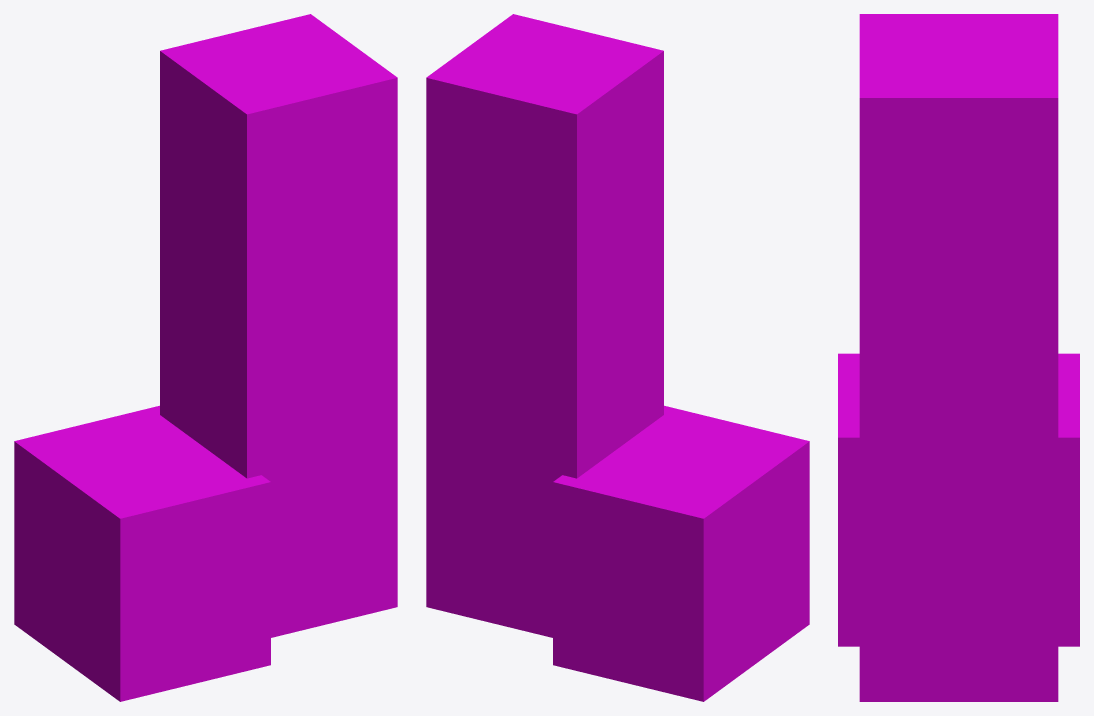
Rendered from SM_OverheadLightSinglePart03Collider.fbx.
The picture shows the model from 3 angles, left to right: view 1: azimuth 30°, elevation 25°; view 2: azimuth 150°, elevation 25°; view 3: azimuth 270°, elevation 25°; orthographic projection. The views are drawn at different scales.
Parts seen in each view (by area): view 1: OverheadLightSinglePart03Collision; view 2: OverheadLightSinglePart03Collision; view 3: OverheadLightSinglePart03Collision.
Boxes of the visible parts, x1,y1,x2,y2 form: OverheadLightSinglePart03Collision: [14, 14, 397, 701]; OverheadLightSinglePart03Collision: [426, 14, 809, 701]; OverheadLightSinglePart03Collision: [838, 14, 1079, 701].
Size of the model in its own units: 8.29 by 15.1 by 5.3.
